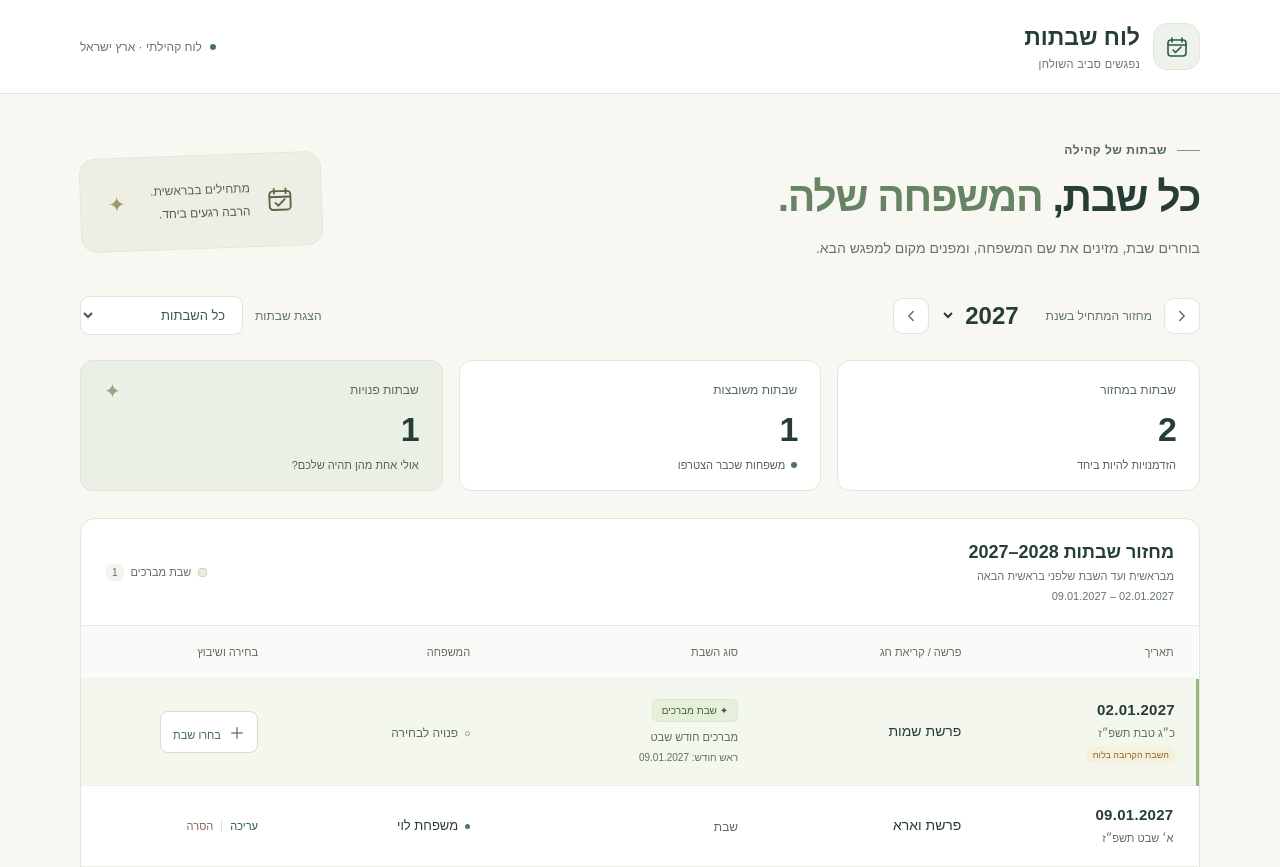
Test: calendar › claims a Shabbat with a directly entered family name
This screenshot has width=1280, height=867.
Click the button "＋ בחרו שבת".
click(209, 732)  # box [160,711,258,753]
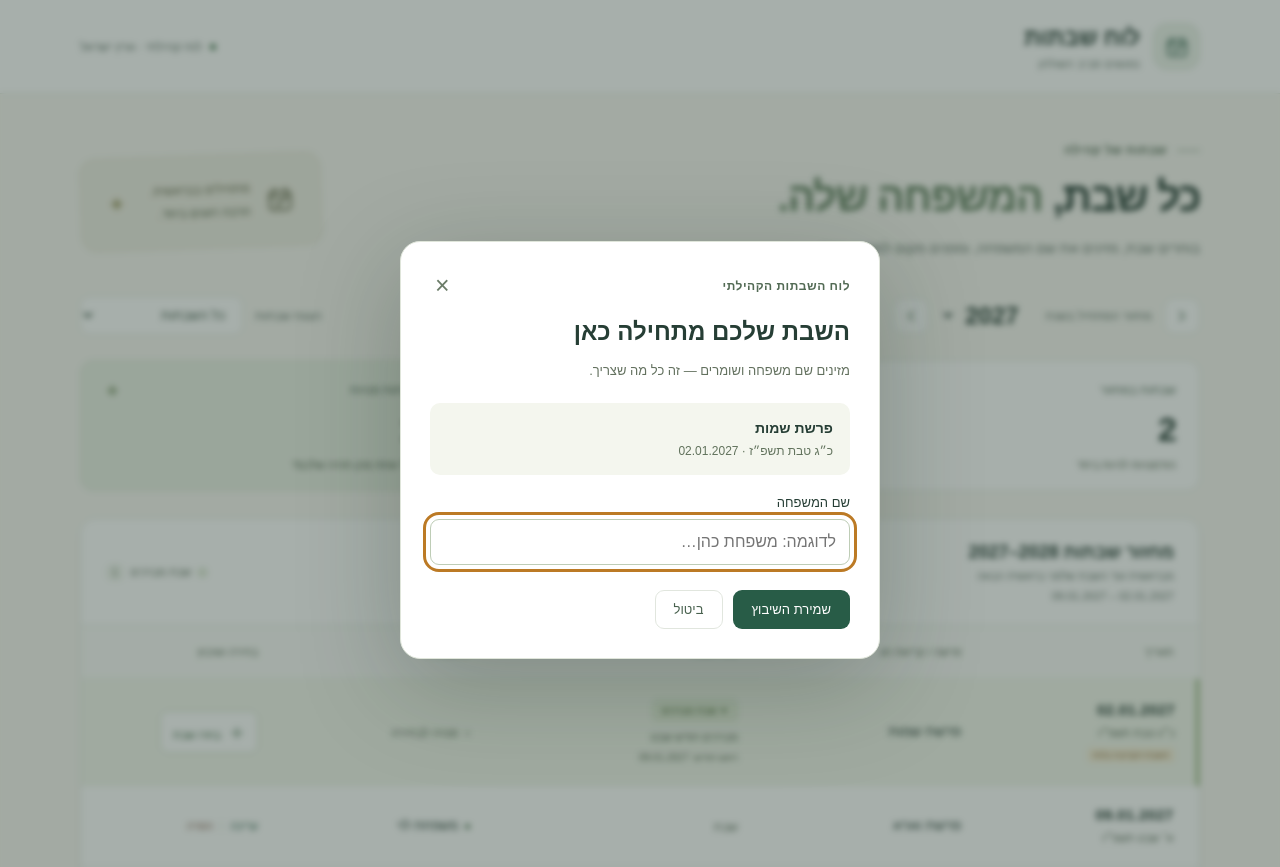
Type "משפחת כהן" into the field labelled "שם המשפחה".
click(640, 542); type("משפחת כהן")  # box [430,519,850,565]
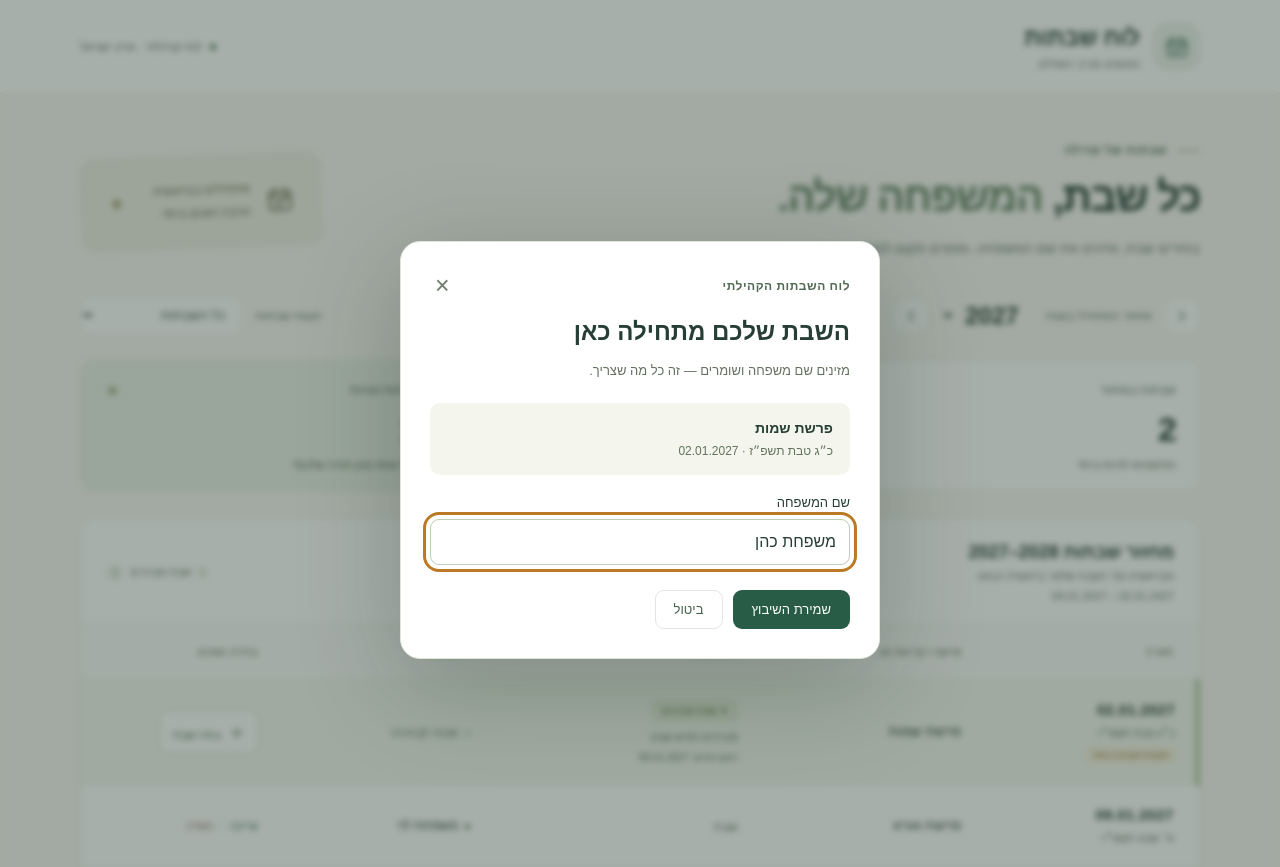
Click the button "שמירת השיבוץ".
click(791, 609)  # box [732,590,850,629]
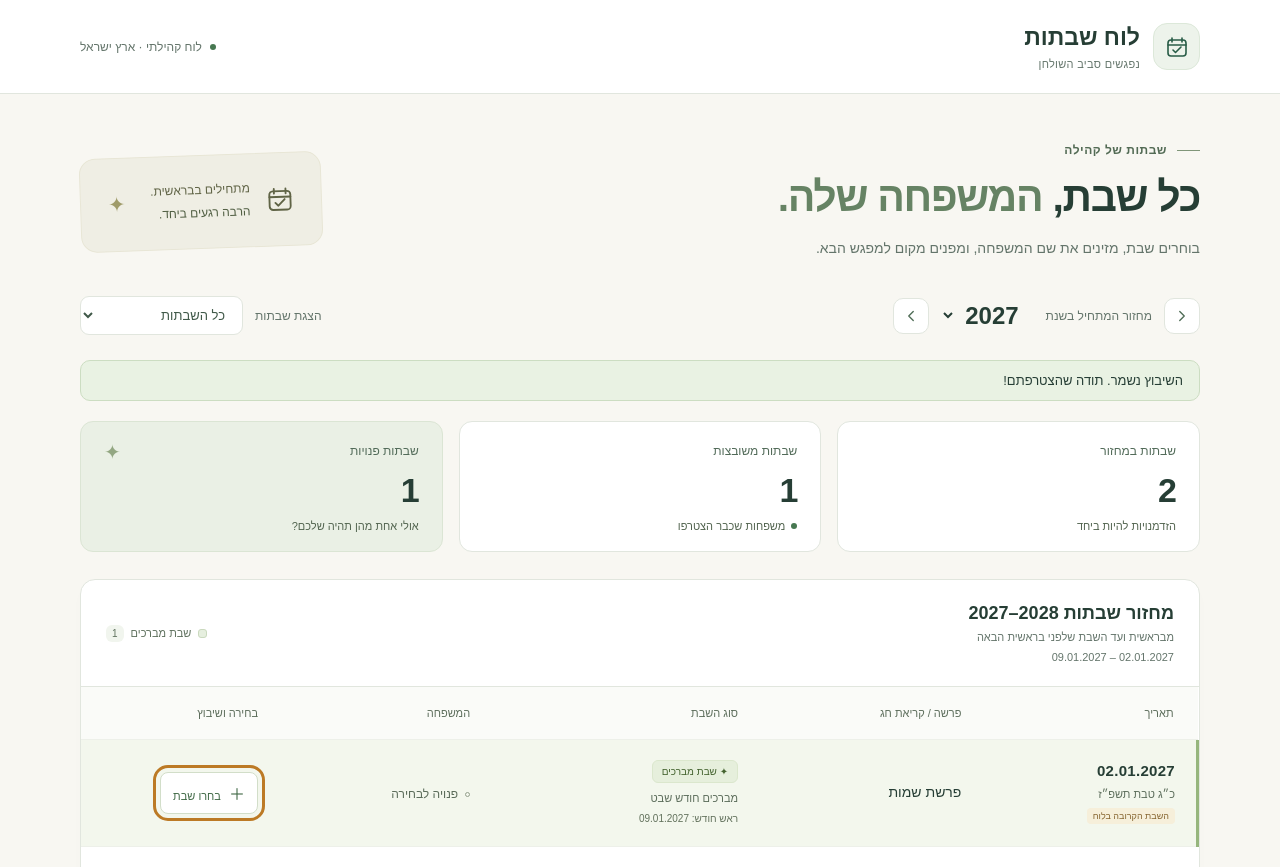
Expected: the dialog is gone
Expected: the message shows "השיבוץ נשמר", [1003,373,1183,388]
